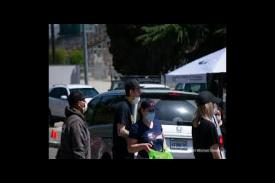mask_weared_incorrect: (135, 89, 144, 103)
with_mask: (144, 109, 157, 123), (79, 98, 89, 113), (211, 102, 219, 116), (215, 112, 221, 124)
